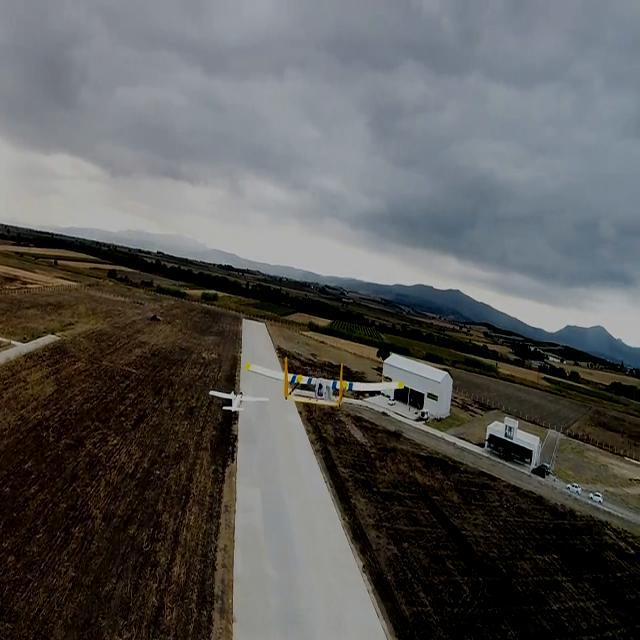iha: (242, 355, 407, 411), (209, 388, 270, 414)
